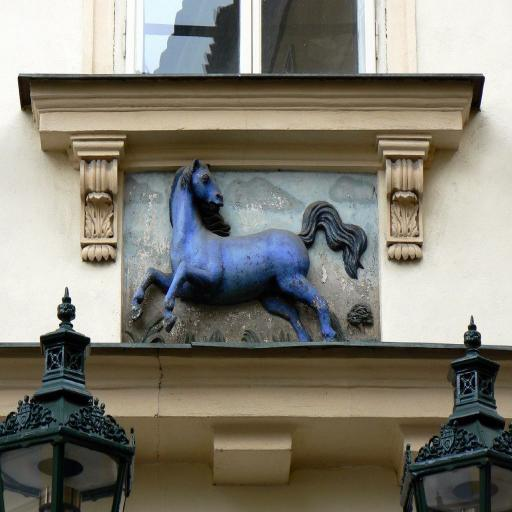horse: (132, 156, 368, 342)
